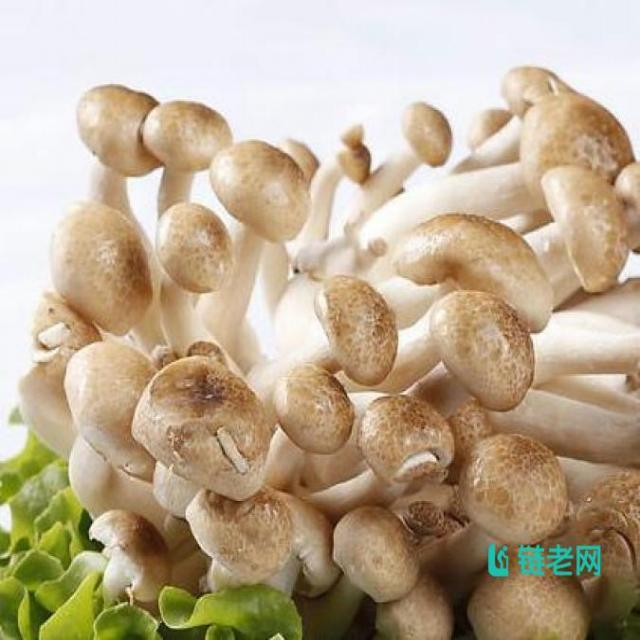Hypsizygus marmoreus: (21, 64, 640, 640)
